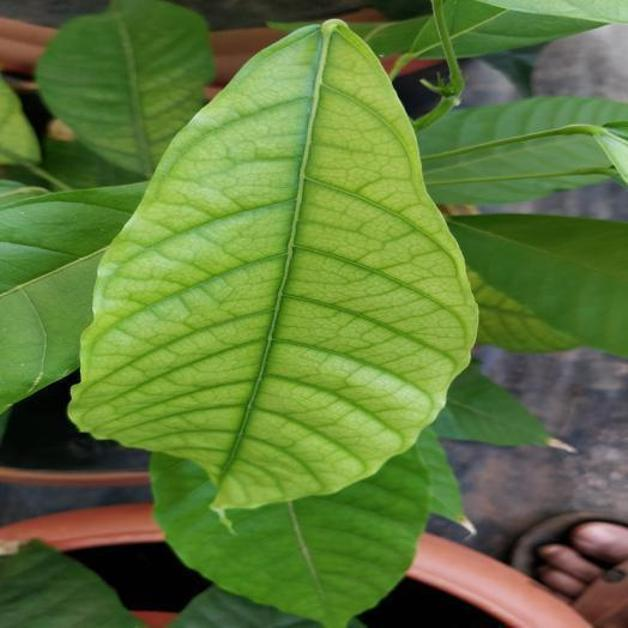Healthy Leaf: (151, 448, 427, 627), (0, 184, 143, 410), (449, 214, 627, 355), (419, 96, 627, 204), (433, 363, 557, 445), (416, 429, 474, 531)
Iron: (69, 20, 476, 509), (36, 0, 214, 178), (469, 270, 581, 352)
